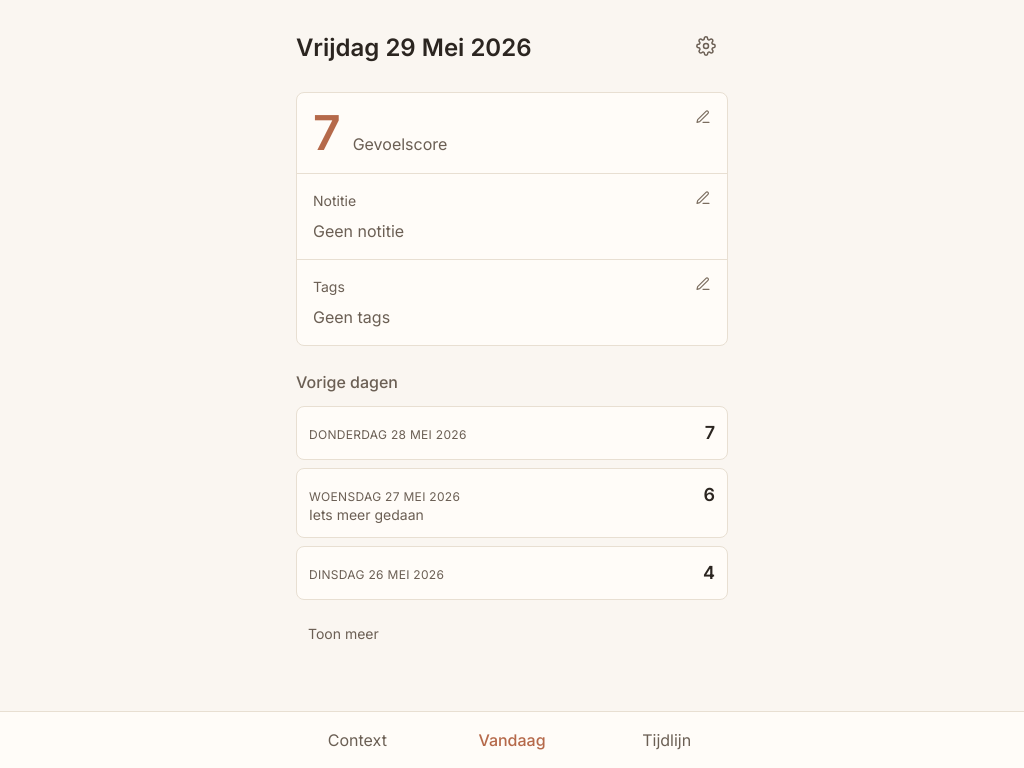
Test: <TodayShell /> › given the Tijdlijn tab is selected, when tapped, then the timeline view replaces the today-card
Step 1. Click the tab "Tijdlijn" → (667, 740), box [589,712,744,767]
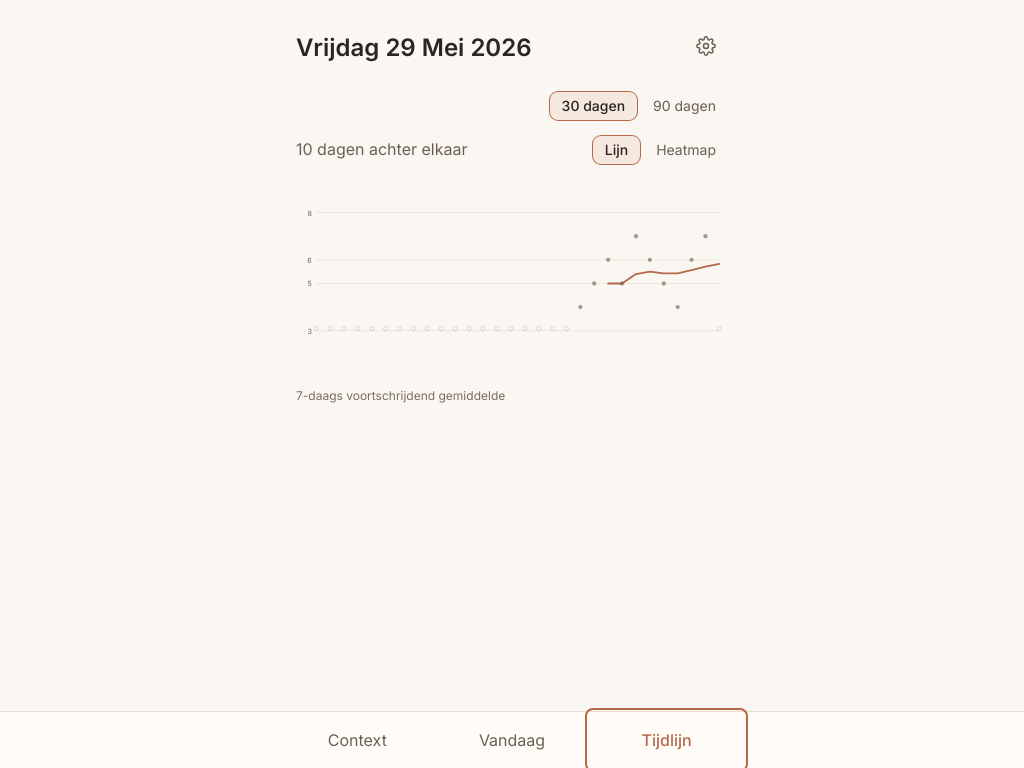
Check: the element named "tijdlijn" is shown, box [296,92,728,404]
Check: the radio button labelled "30 dagen" is shown, box [550,92,637,120]
